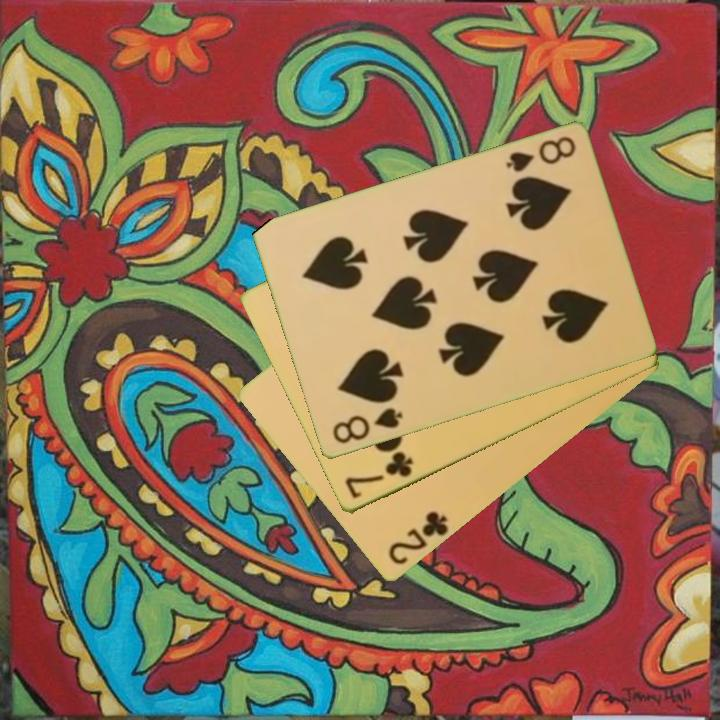2c: (385, 508, 452, 569)
7c: (341, 448, 417, 503)
8s: (329, 404, 406, 447), (502, 133, 579, 176)
